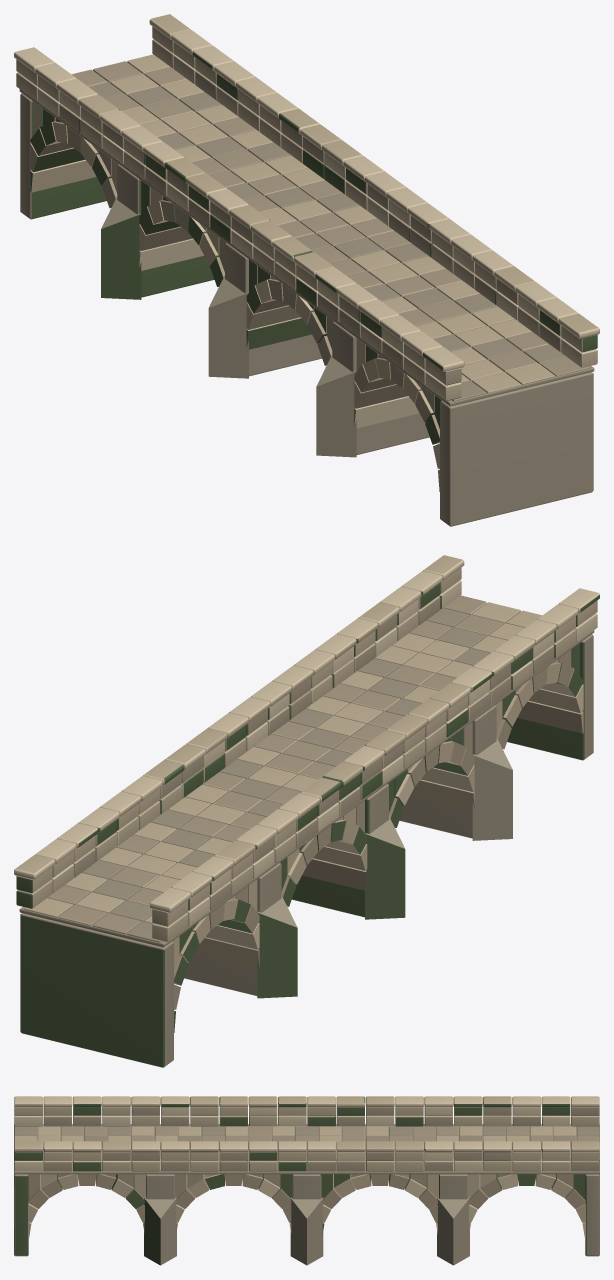
File: bridge_stone_v1530_01.glb
3 views of the same model, one above another, from view 1: azimuth 30°, elevation 25°; view 2: azimuth 150°, elevation 25°; view 3: azimuth 270°, elevation 25° (orthographic). The views are drawn at different scales.
Visible parts, largest first — view 1: bridge_stone_v1530_01; view 2: bridge_stone_v1530_01; view 3: bridge_stone_v1530_01.
Boxes of the visible parts, x1,y1,x2,y2 form: bridge_stone_v1530_01: (14, 14, 599, 526); bridge_stone_v1530_01: (14, 555, 599, 1067); bridge_stone_v1530_01: (14, 1096, 599, 1265).
Size of the model in its own units: 2.64 by 2.09 by 10.
